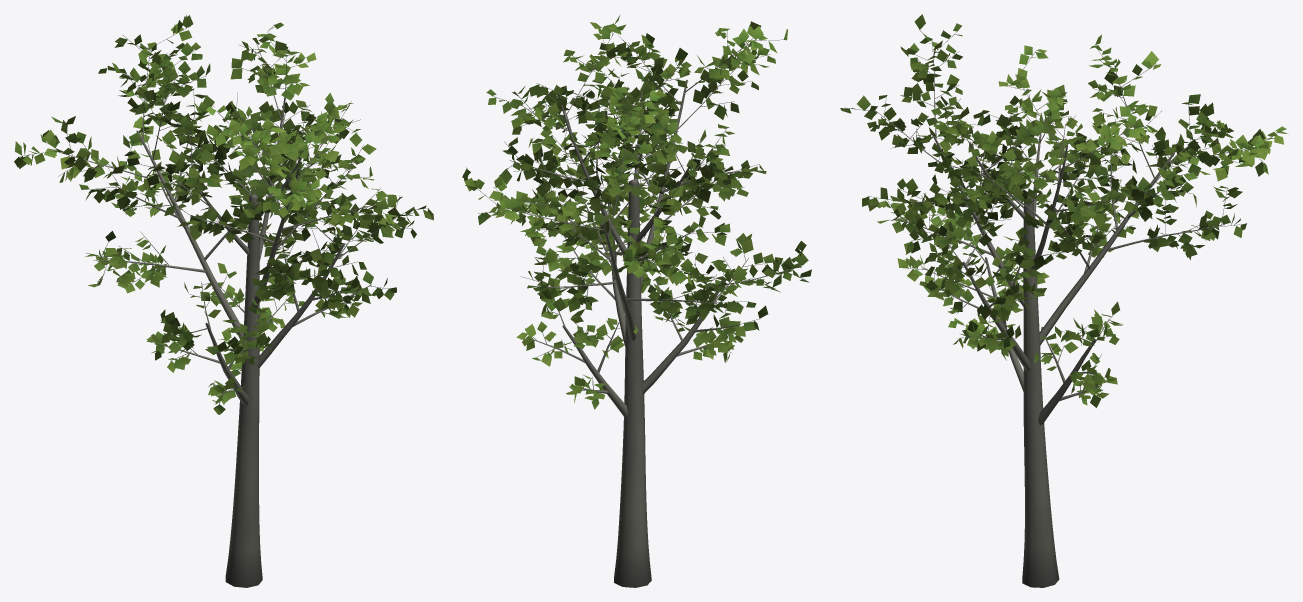
Rendered from beech-a.lod0.glb.
3 renders of one model, left to right at view 1: azimuth 30°, elevation 25°; view 2: azimuth 150°, elevation 25°; view 3: azimuth 270°, elevation 25°, orthographic. The views are drawn at different scales.
Size of the model in its own units: 7.12 by 12.73 by 9.51.
